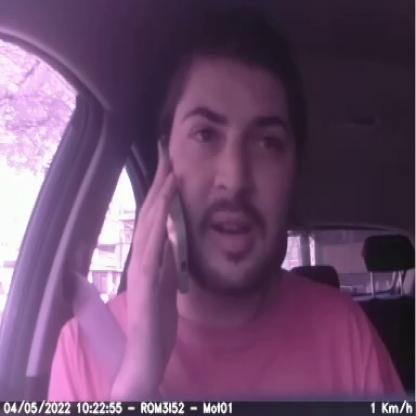phone: (144, 131, 198, 312)
